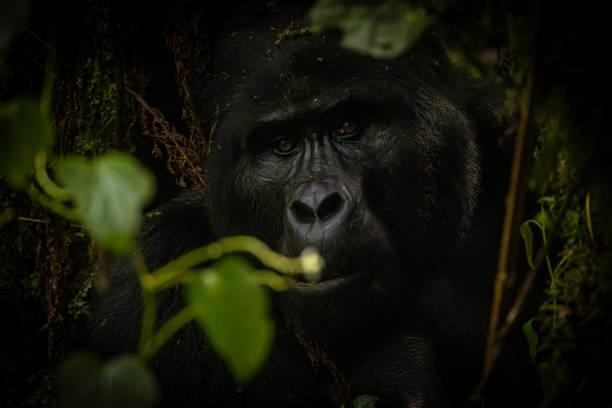goriile_montagne: (110, 5, 509, 401)
